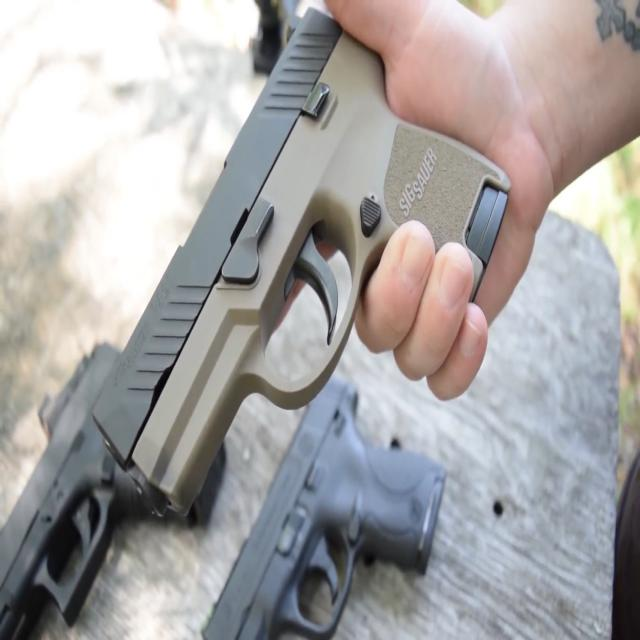handgun: (64, 32, 532, 518), (196, 386, 483, 640), (0, 344, 241, 639)
